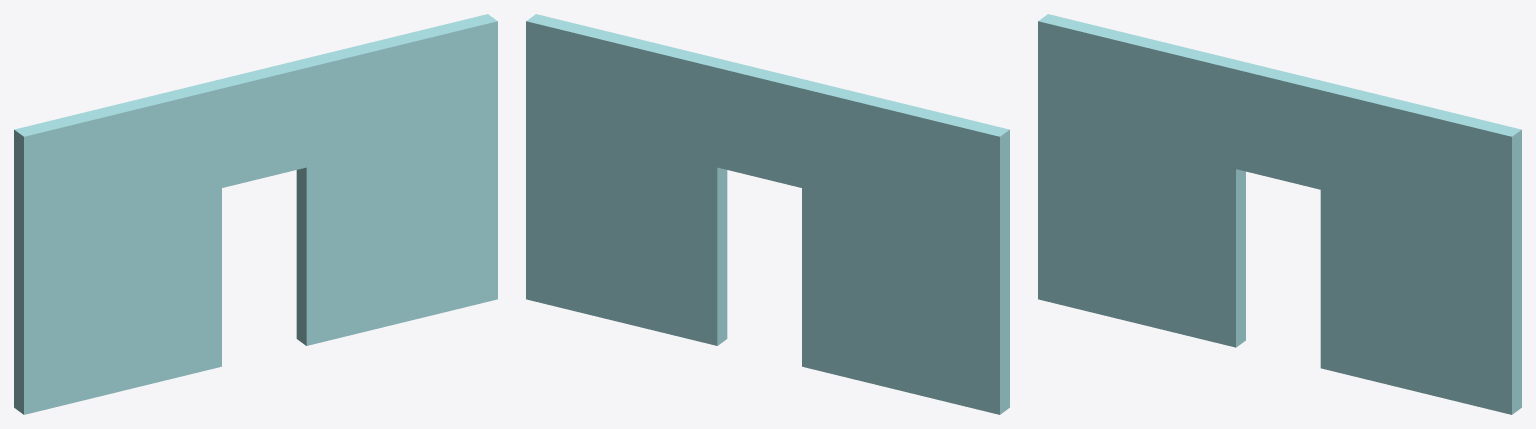
The model's file is Door Wall.FBX.
3 renders of one model, left to right at view 1: azimuth 30°, elevation 25°; view 2: azimuth 150°, elevation 25°; view 3: azimuth 330°, elevation 25°, orthographic.
Parts seen in each view (by area): view 1: Object010; view 2: Object010; view 3: Object010.
Boxes of the visible parts, bbox=[...] form: Object010: bbox=[14, 14, 497, 414]; Object010: bbox=[526, 14, 1009, 414]; Object010: bbox=[1038, 14, 1521, 414].
Bounding box in the file's own units: 473 × 266 × 17.12.
Materials: 1 (1 with a texture image).
